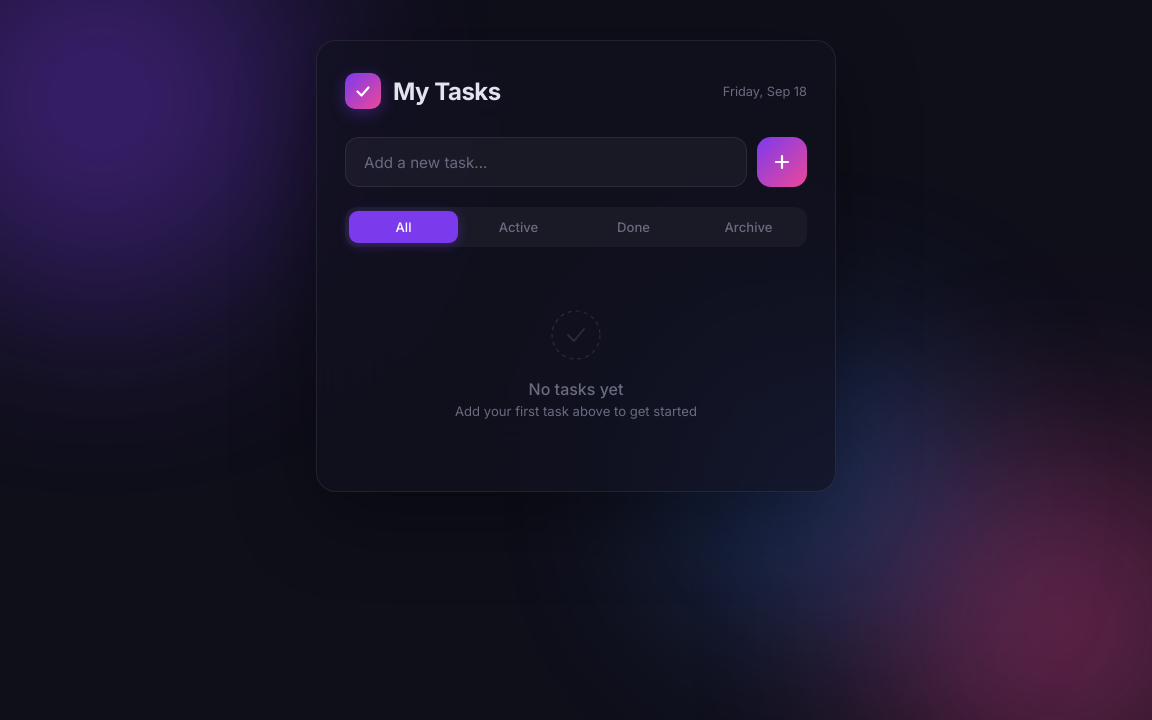
Test case: App › filters active todos
In the field with placeholder "Add a new task...": (546, 162) top-left (345, 137), bottom-right (747, 187), type "Task one"
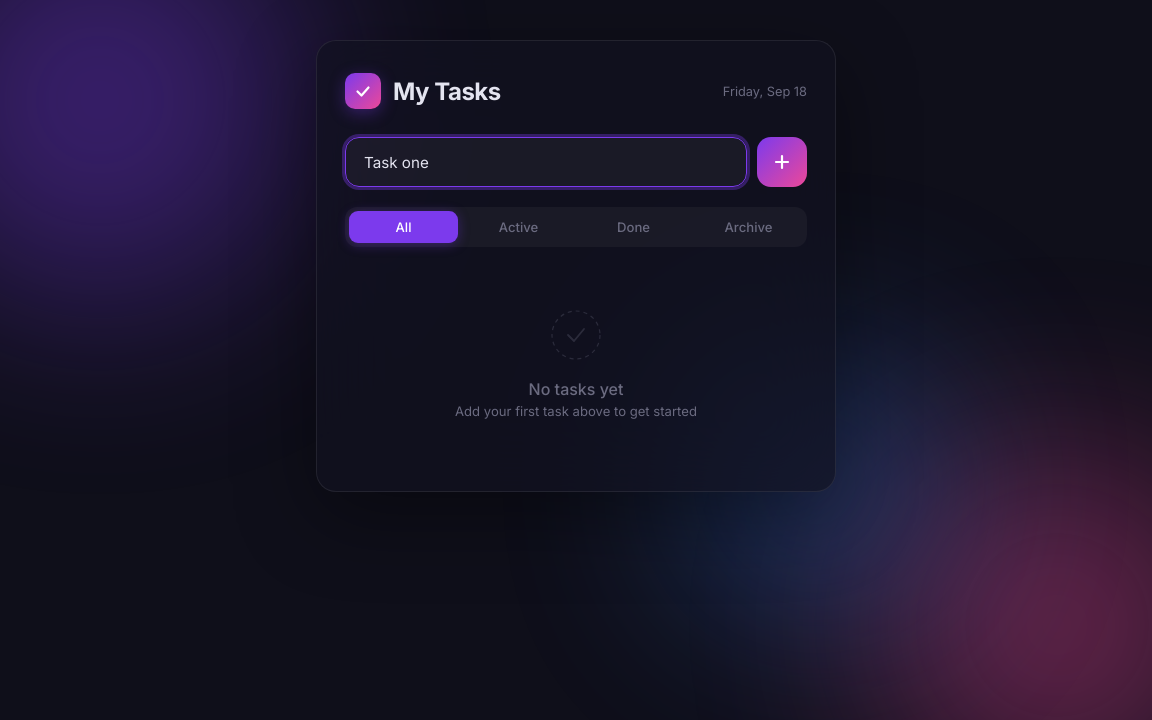
Click the button named "Add task": (782, 162) top-left (757, 137), bottom-right (807, 187)
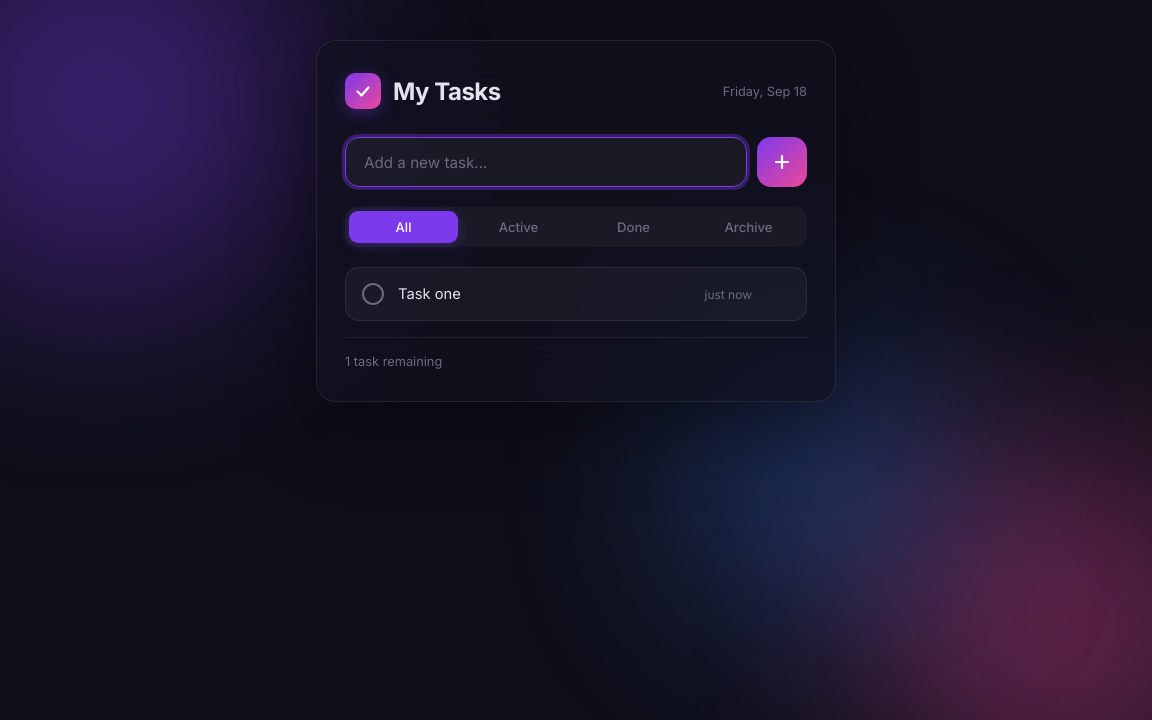
In the field with placeholder "Add a new task...": (546, 162) top-left (345, 137), bottom-right (747, 187), type "Task two"
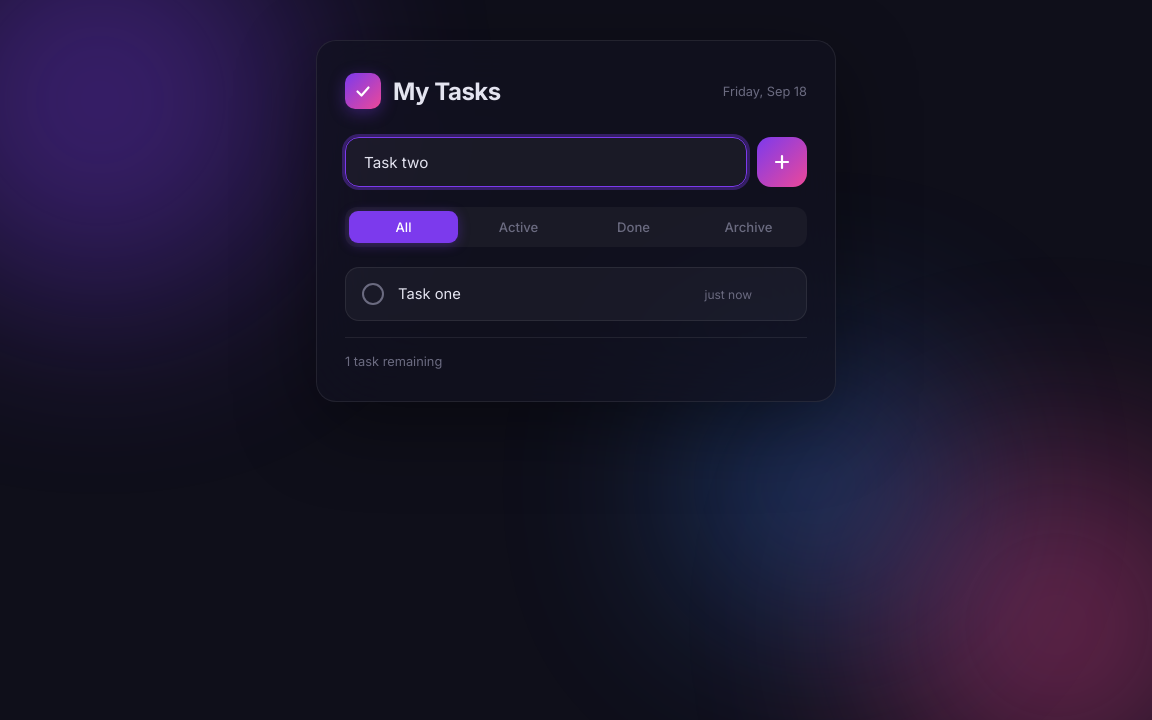
Click the button named "Add task": (782, 162) top-left (757, 137), bottom-right (807, 187)
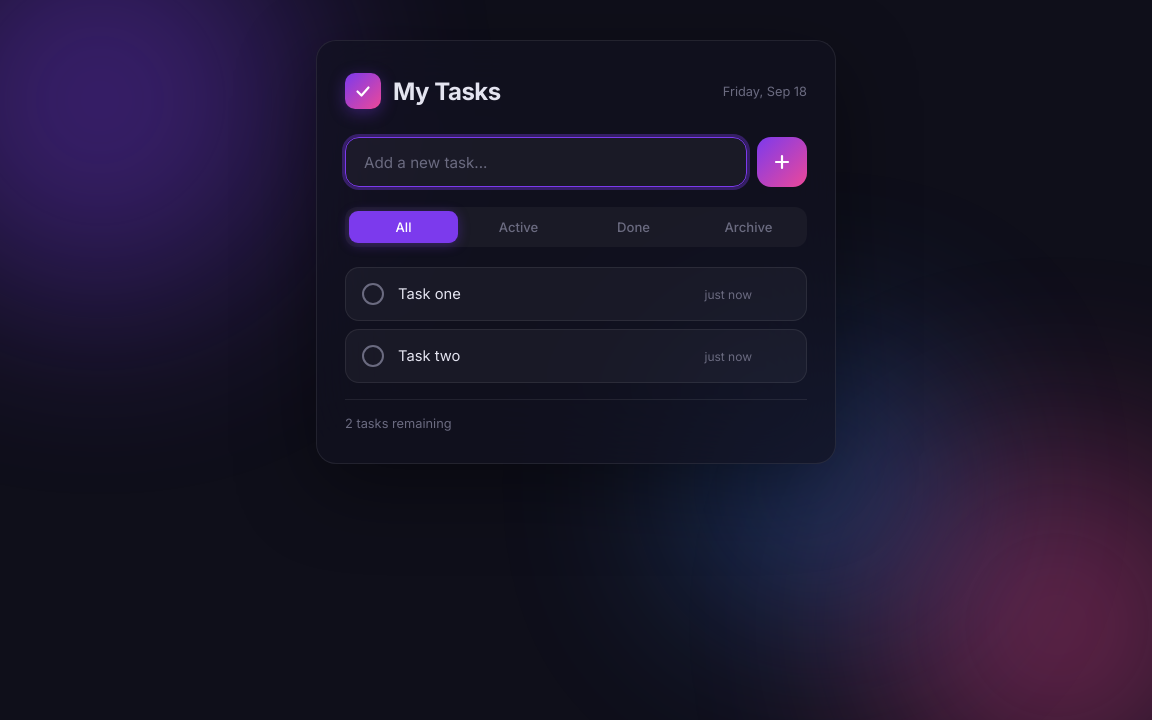
Note: Complete "Task one"
Click the checkbox named "Mark \"Task one\"": (576, 294) top-left (345, 267), bottom-right (807, 321)
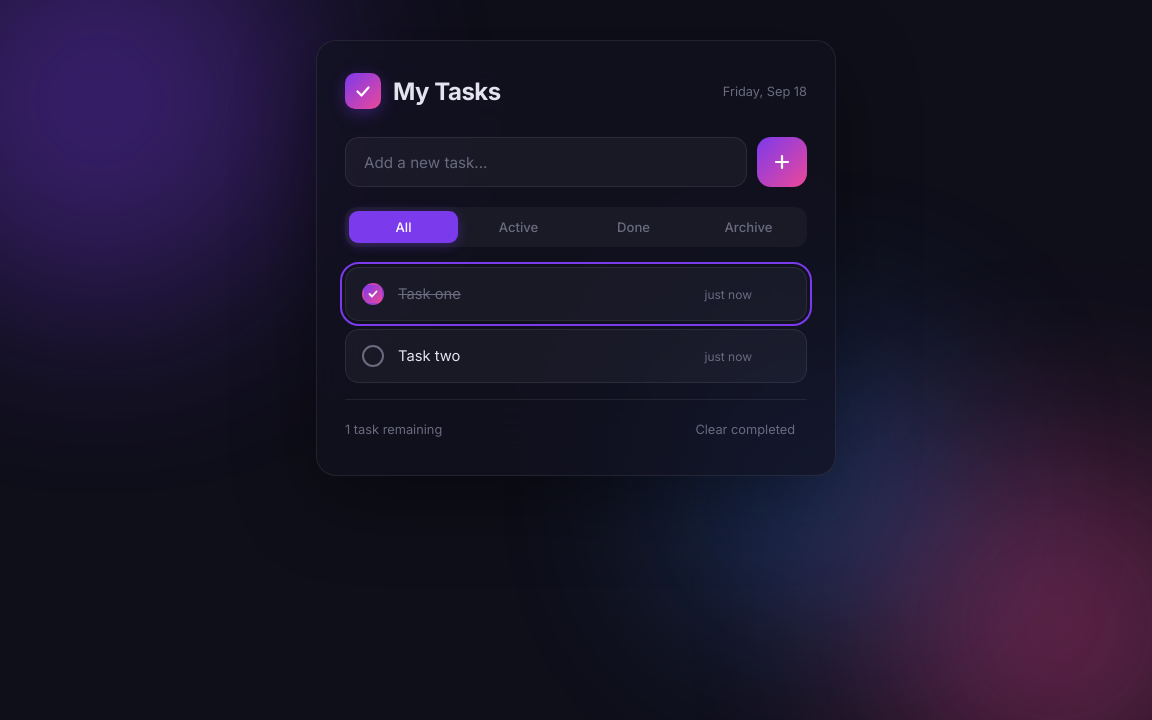
Note: Filter to active
Click the tab "Active": (518, 227) top-left (464, 211), bottom-right (573, 243)
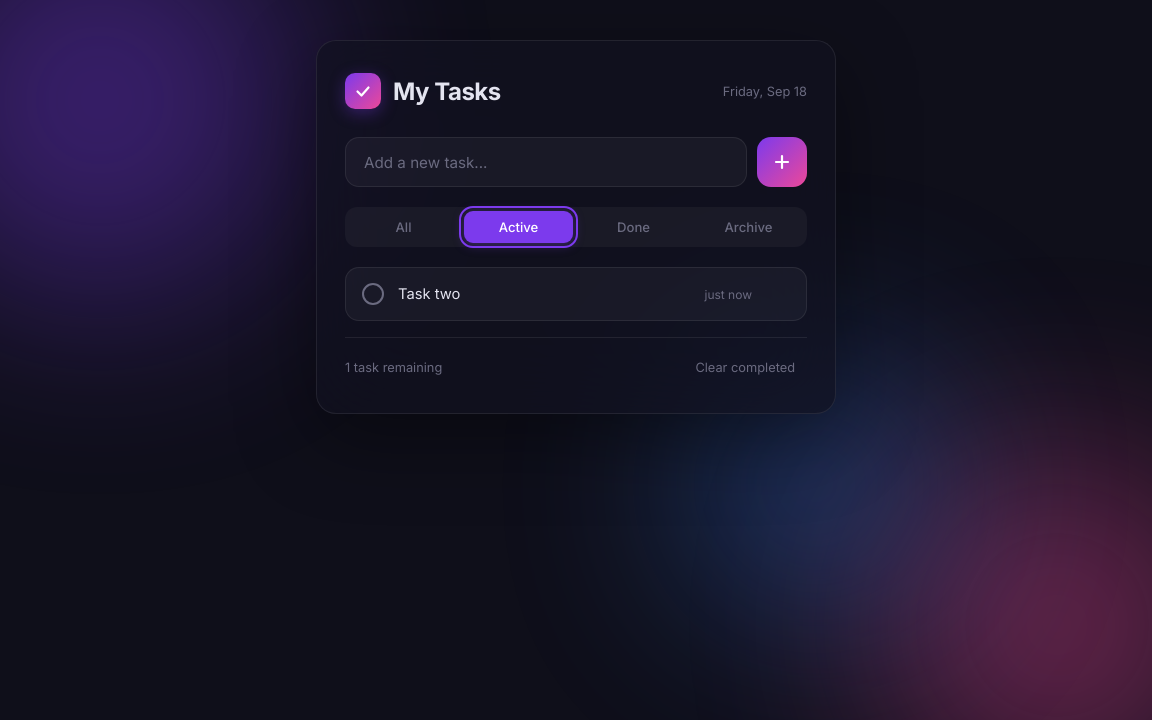
Check: the text "Task two" is shown, box top-left (398, 285), bottom-right (460, 303)
Check: the checkbox "Task one" is gone
